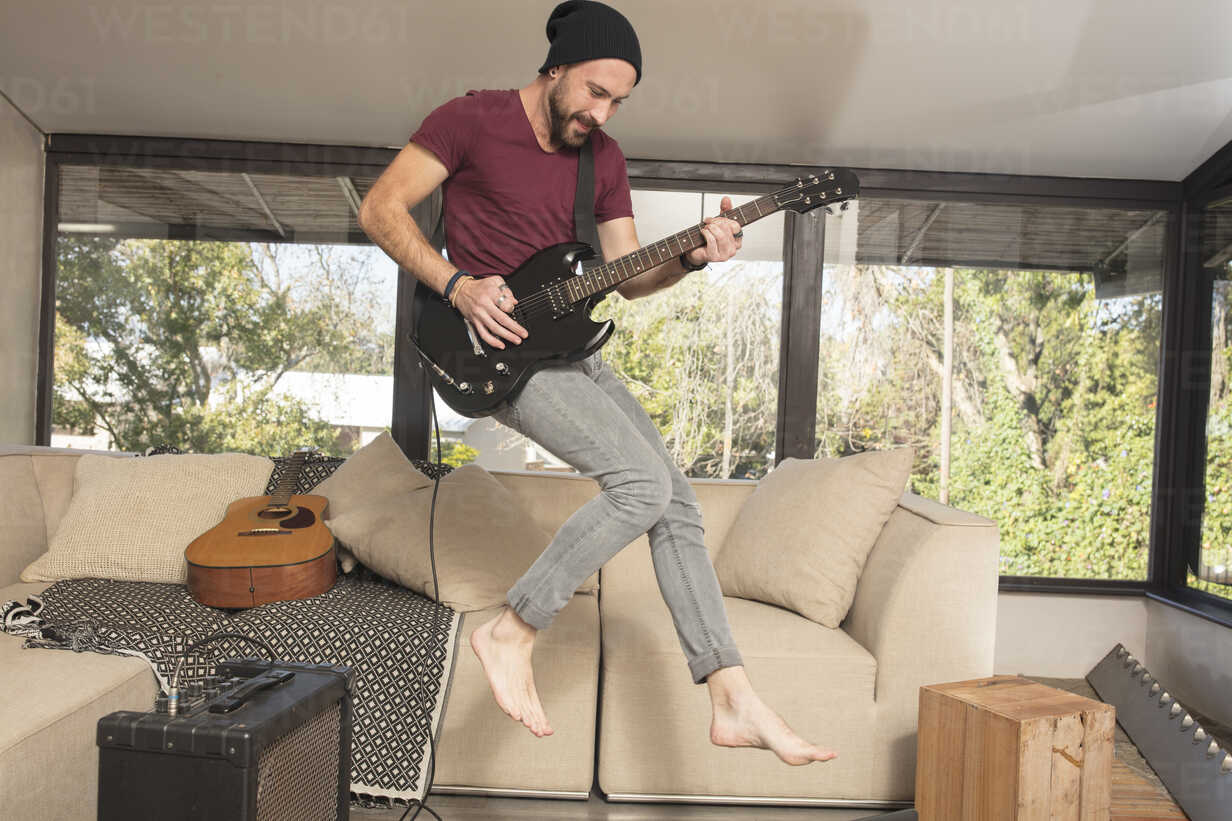acousticguitar: (411, 168, 859, 418)
